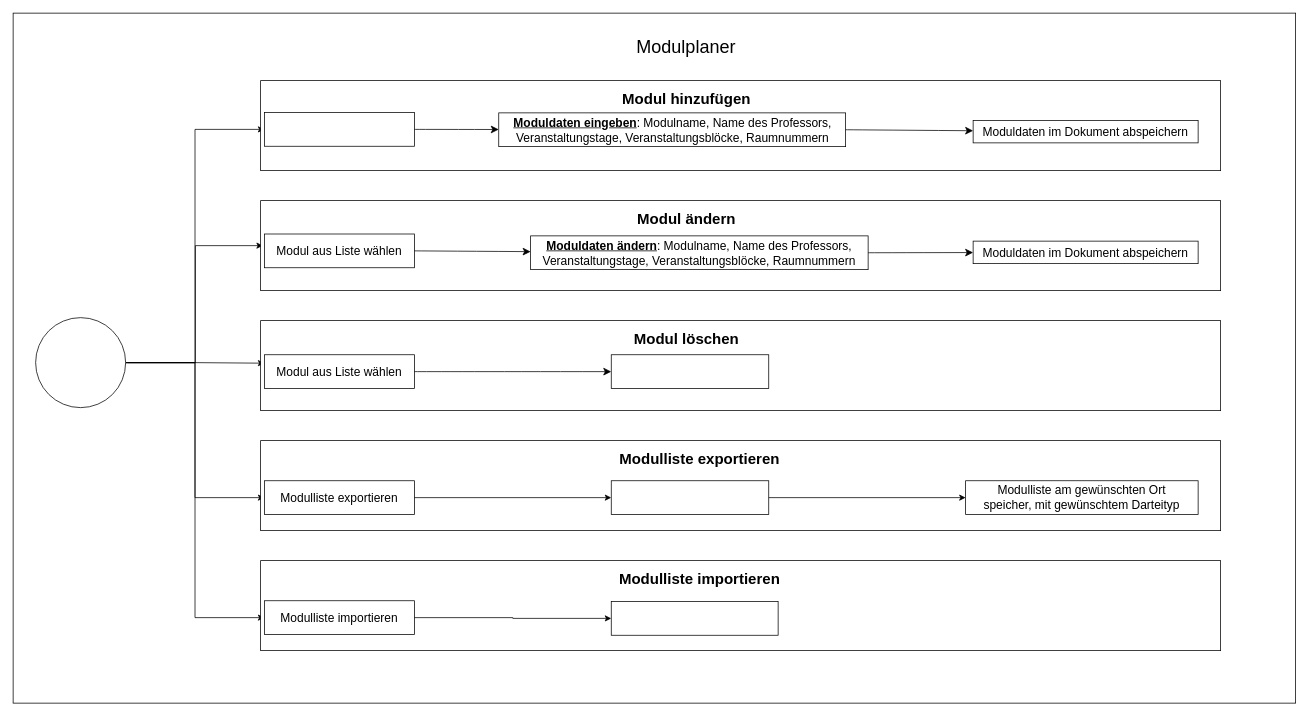
This 1309x716 diagram has some shape labels left out. Here are the shapes that lost their labels. From the top down, the centre of each, then its label:
At point (339, 129): "Neues Modul hinzufügen".
At point (80, 362): "Benutzer".
At point (689, 371): "Modul aus Datei löschen".
At point (689, 497): "Auswahl Dateityp: CSV oder custom".
At point (694, 618): "Modulliste vom Speicherort auswählen".
